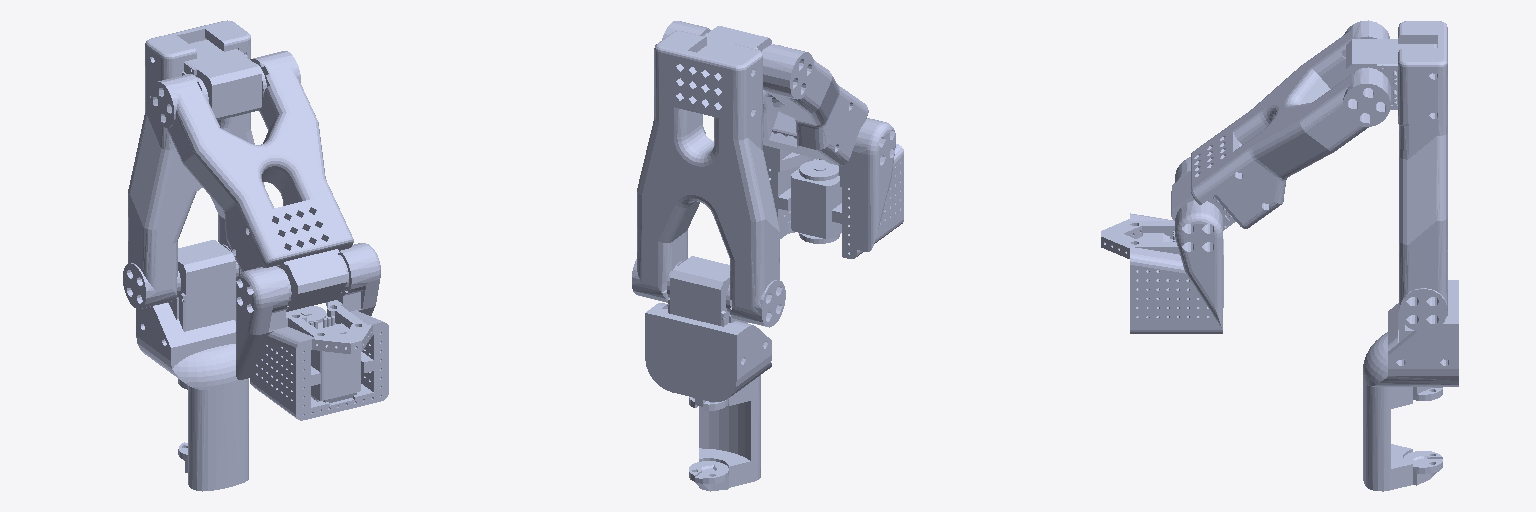
The robot description file, URDF, robot "URDF_SO_5DOF_ARM100_05d.SLDASM":
<?xml version="1.0" encoding="utf-8"?>
<!-- This URDF was automatically created by SolidWorks to URDF Exporter! Originally created by [author] ([email redacted]) 
     Commit Version: 1.6.0-1-g15f4949  Build Version: 1.6.7594.29634
     For more information, please see http://wiki.ros.org/sw_urdf_exporter -->
<robot
  name="URDF_SO_5DOF_ARM100_05d.SLDASM">
  <link
    name="Base">
    <inertial>
      <origin
        xyz="-1.55220300266682E-10 0.0275980388649202 0.0272094138963763"
        rpy="0 0 0" />
      <mass
        value="0.146962928243327" />
      <inertia
        ixx="9.5191642834079E-05"
        ixy="2.02405274349213E-12"
        ixz="1.46514384389375E-13"
        iyy="0.000123785814019492"
        iyz="1.84608762035329E-05"
        izz="0.000137926707148466" />
    </inertial>
    <visual>
      <origin
        xyz="0 0 0"
        rpy="0 0 0" />
      <geometry>
        <mesh
          filename="package://URDF_SO_5DOF_ARM100_05d.SLDASM/meshes/Base.STL" />
      </geometry>
      <material
        name="">
        <color
          rgba="0.792156862745098 0.819607843137255 0.933333333333333 1" />
      </material>
    </visual>
    <collision>
      <origin
        xyz="0 0 0"
        rpy="0 0 0" />
      <geometry>
        <mesh
          filename="package://URDF_SO_5DOF_ARM100_05d.SLDASM/meshes/Base.STL" />
      </geometry>
    </collision>
  </link>
  <link
    name="Shoulder_Rotation_Pitch">
    <inertial>
      <origin
        xyz="-0.00511938391873139 0.0678779339349912 -0.000127472379243391"
        rpy="0 0 0" />
      <mass
        value="0.111780100254674" />
      <inertia
        ixx="7.0389030171385E-05"
        ixy="-1.55093016866869E-05"
        ixz="1.67387694867947E-07"
        iyy="3.32352621027575E-05"
        iyz="9.30705606418705E-07"
        izz="7.08694473647387E-05" />
    </inertial>
    <visual>
      <origin
        xyz="0 0 0"
        rpy="0 0 0" />
      <geometry>
        <mesh
          filename="package://URDF_SO_5DOF_ARM100_05d.SLDASM/meshes/Shoulder_Rotation_Pitch.STL" />
      </geometry>
      <material
        name="">
        <color
          rgba="0.792156862745098 0.819607843137255 0.933333333333333 1" />
      </material>
    </visual>
    <collision>
      <origin
        xyz="0 0 0"
        rpy="0 0 0" />
      <geometry>
        <mesh
          filename="package://URDF_SO_5DOF_ARM100_05d.SLDASM/meshes/Shoulder_Rotation_Pitch.STL" />
      </geometry>
    </collision>
  </link>
  <joint
    name="Shoulder_Rotation"
    type="continuous">
    <origin
      xyz="0 -0.0452 0.0181"
      rpy="1.5708 0 1.5708" />
    <parent
      link="Base" />
    <child
      link="Shoulder_Rotation_Pitch" />
    <axis
      xyz="0 1 0" />
  </joint>
  <link
    name="Upper_Arm">
    <inertial>
      <origin
        xyz="-0.0693113774468845 0.0029374134696482 -7.61279219025764E-07"
        rpy="0 0 0" />
      <mass
        value="0.167601391353176" />
      <inertia
        ixx="7.75332201021328E-05"
        ixy="-2.10765620509824E-06"
        ixz="7.52685919931985E-07"
        iyy="0.000233751202018378"
        iyz="-1.63496162538793E-07"
        izz="0.000180452754687364" />
    </inertial>
    <visual>
      <origin
        xyz="0 0 0"
        rpy="0 0 0" />
      <geometry>
        <mesh
          filename="package://URDF_SO_5DOF_ARM100_05d.SLDASM/meshes/Upper_Arm.STL" />
      </geometry>
      <material
        name="">
        <color
          rgba="0.792156862745098 0.819607843137255 0.933333333333333 1" />
      </material>
    </visual>
    <collision>
      <origin
        xyz="0 0 0"
        rpy="0 0 0" />
      <geometry>
        <mesh
          filename="package://URDF_SO_5DOF_ARM100_05d.SLDASM/meshes/Upper_Arm.STL" />
      </geometry>
    </collision>
  </link>
  <joint
    name="Shoulder_Pitch"
    type="continuous">
    <origin
      xyz="0.000125 0.1086 0"
      rpy="3.1416 0 -1.5708" />
    <parent
      link="Shoulder_Rotation_Pitch" />
    <child
      link="Upper_Arm" />
    <axis
      xyz="1 0 0" />
  </joint>
  <link
    name="Lower_Arm">
    <inertial>
      <origin
        xyz="-0.0588290275819228 0.0021495318374051 0.000146772621039401"
        rpy="0 0 0" />
      <mass
        value="0.142523221917339" />
      <inertia
        ixx="6.29078989235053E-05"
        ixy="3.79294618448135E-06"
        ixz="1.70733512134002E-06"
        iyy="0.000146811163948232"
        iyz="-2.14744034456782E-07"
        izz="0.000102145070617562" />
    </inertial>
    <visual>
      <origin
        xyz="0 0 0"
        rpy="0 0 0" />
      <geometry>
        <mesh
          filename="package://URDF_SO_5DOF_ARM100_05d.SLDASM/meshes/Lower_Arm.STL" />
      </geometry>
      <material
        name="">
        <color
          rgba="0.792156862745098 0.819607843137255 0.933333333333333 1" />
      </material>
    </visual>
    <collision>
      <origin
        xyz="0 0 0"
        rpy="0 0 0" />
      <geometry>
        <mesh
          filename="package://URDF_SO_5DOF_ARM100_05d.SLDASM/meshes/Lower_Arm.STL" />
      </geometry>
    </collision>
  </link>
  <joint
    name="Elbow"
    type="continuous">
    <origin
      xyz="-0.11238 0.0282 0"
      rpy="0 0 -2.2391" />
    <parent
      link="Upper_Arm" />
    <child
      link="Lower_Arm" />
    <axis
      xyz="1 0 0" />
  </joint>
  <link
    name="Wrist_Pitch_Roll">
    <inertial>
      <origin
        xyz="-6.28656116977441E-09 -0.0087849429576346 -0.0309177852835532"
        rpy="0 0 0" />
      <mass
        value="0.106401896179987" />
      <inertia
        ixx="4.78947074364113E-05"
        ixy="-1.33871782924893E-11"
        ixz="-8.95740684048555E-12"
        iyy="7.01088408487287E-05"
        iyz="-5.49748507471695E-06"
        izz="6.17958653539554E-05" />
    </inertial>
    <visual>
      <origin
        xyz="0 0 0"
        rpy="0 0 0" />
      <geometry>
        <mesh
          filename="package://URDF_SO_5DOF_ARM100_05d.SLDASM/meshes/Wrist_Pitch_Roll.STL" />
      </geometry>
      <material
        name="">
        <color
          rgba="0.792156862745098 0.819607843137255 0.933333333333333 1" />
      </material>
    </visual>
    <collision>
      <origin
        xyz="0 0 0"
        rpy="0 0 0" />
      <geometry>
        <mesh
          filename="package://URDF_SO_5DOF_ARM100_05d.SLDASM/meshes/Wrist_Pitch_Roll.STL" />
      </geometry>
    </collision>
  </link>
  <joint
    name="Wrist_Pitch"
    type="continuous">
    <origin
      xyz="-0.1102 0.005375 0"
      rpy="0.90254 1.5708 0" />
    <parent
      link="Lower_Arm" />
    <child
      link="Wrist_Pitch_Roll" />
    <axis
      xyz="1 0 0" />
  </joint>
  <link
    name="Fixed_Gripper">
    <inertial>
      <origin
        xyz="-0.00772179942650385 -0.000555295978141024 0.0316941559340959"
        rpy="0 0 0" />
      <mass
        value="0.11710741874408" />
      <inertia
        ixx="5.6752601803176E-05"
        ixy="1.04098982658207E-06"
        ixz="8.53596077253276E-06"
        iyy="5.78441834179299E-05"
        iyz="-2.86014969245208E-07"
        izz="4.22399193495318E-05" />
    </inertial>
    <visual>
      <origin
        xyz="0 0 0"
        rpy="0 0 0" />
      <geometry>
        <mesh
          filename="package://URDF_SO_5DOF_ARM100_05d.SLDASM/meshes/Fixed_Gripper.STL" />
      </geometry>
      <material
        name="">
        <color
          rgba="0.792156862745098 0.819607843137255 0.933333333333333 1" />
      </material>
    </visual>
    <collision>
      <origin
        xyz="0 0 0"
        rpy="0 0 0" />
      <geometry>
        <mesh
          filename="package://URDF_SO_5DOF_ARM100_05d.SLDASM/meshes/Fixed_Gripper.STL" />
      </geometry>
    </collision>
  </link>
  <joint
    name="Wrist_Roll"
    type="continuous">
    <origin
      xyz="0 0.002 -0.0545"
      rpy="3.1416 0 3.1416" />
    <parent
      link="Wrist_Pitch_Roll" />
    <child
      link="Fixed_Gripper" />
    <axis
      xyz="0 1 0" />
  </joint>
  <link
    name="Moving_Jaw">
    <inertial>
      <origin
        xyz="-0.0033838985185846 -0.0322884362122416 0.000144458547748166"
        rpy="0 0 0" />
      <mass
        value="0.0347149174448153" />
      <inertia
        ixx="1.36949844449711E-05"
        ixy="-5.63192124555278E-07"
        ixz="-5.74449907399213E-09"
        iyy="7.04089001130742E-06"
        iyz="-1.05361496046931E-07"
        izz="8.28976960805291E-06" />
    </inertial>
    <visual>
      <origin
        xyz="0 0 0"
        rpy="0 0 0" />
      <geometry>
        <mesh
          filename="package://URDF_SO_5DOF_ARM100_05d.SLDASM/meshes/Moving_Jaw.STL" />
      </geometry>
      <material
        name="">
        <color
          rgba="0.792156862745098 0.819607843137255 0.933333333333333 1" />
      </material>
    </visual>
    <collision>
      <origin
        xyz="0 0 0"
        rpy="0 0 0" />
      <geometry>
        <mesh
          filename="package://URDF_SO_5DOF_ARM100_05d.SLDASM/meshes/Moving_Jaw.STL" />
      </geometry>
    </collision>
  </link>
  <joint
    name="Gripper"
    type="continuous">
    <origin
      xyz="0.0202 0 0.024375"
      rpy="-1.5708 0 0" />
    <parent
      link="Fixed_Gripper" />
    <child
      link="Moving_Jaw" />
    <axis
      xyz="0 0 1" />
  </joint>
</robot>

--- Facts derived from the render (not from the file) ---
The picture shows the robot from 3 angles, left to right: view 1: azimuth 30°, elevation 25°; view 2: azimuth 150°, elevation 25°; view 3: azimuth 270°, elevation 25°; orthographic projection.
Model URDF_SO_5DOF_ARM100_05d.SLDASM with 7 links and 6 joints (6 continuous), rooted at Base, posed every joint at zero.
Visible links, largest first — view 1: Lower_Arm, Wrist_Pitch_Roll, Upper_Arm, Shoulder_Rotation_Pitch; view 2: Upper_Arm, Shoulder_Rotation_Pitch, Wrist_Pitch_Roll, Lower_Arm; view 3: Lower_Arm, Upper_Arm, Wrist_Pitch_Roll, Shoulder_Rotation_Pitch.
Boxes of the visible links, bbox=[...] form: Lower_Arm: bbox=[151, 51, 353, 311]; Wrist_Pitch_Roll: bbox=[236, 243, 388, 420]; Upper_Arm: bbox=[123, 20, 266, 309]; Shoulder_Rotation_Pitch: bbox=[136, 240, 248, 491]; Upper_Arm: bbox=[632, 26, 785, 327]; Shoulder_Rotation_Pitch: bbox=[645, 256, 771, 491]; Wrist_Pitch_Roll: bbox=[763, 118, 903, 258]; Lower_Arm: bbox=[662, 21, 868, 165]; Lower_Arm: bbox=[1171, 20, 1390, 230]; Upper_Arm: bbox=[1346, 21, 1447, 332]; Wrist_Pitch_Roll: bbox=[1101, 157, 1223, 333]; Shoulder_Rotation_Pitch: bbox=[1363, 280, 1458, 491].
Bounding box of the posed robot: 0.0744 × 0.1772 × 0.2386 m (x, y, z).
Meshes: 7 distinct files referenced, 4 mesh visuals loaded (4 binary STL); not drawn: 3 (reference not matched to a file when rendering).